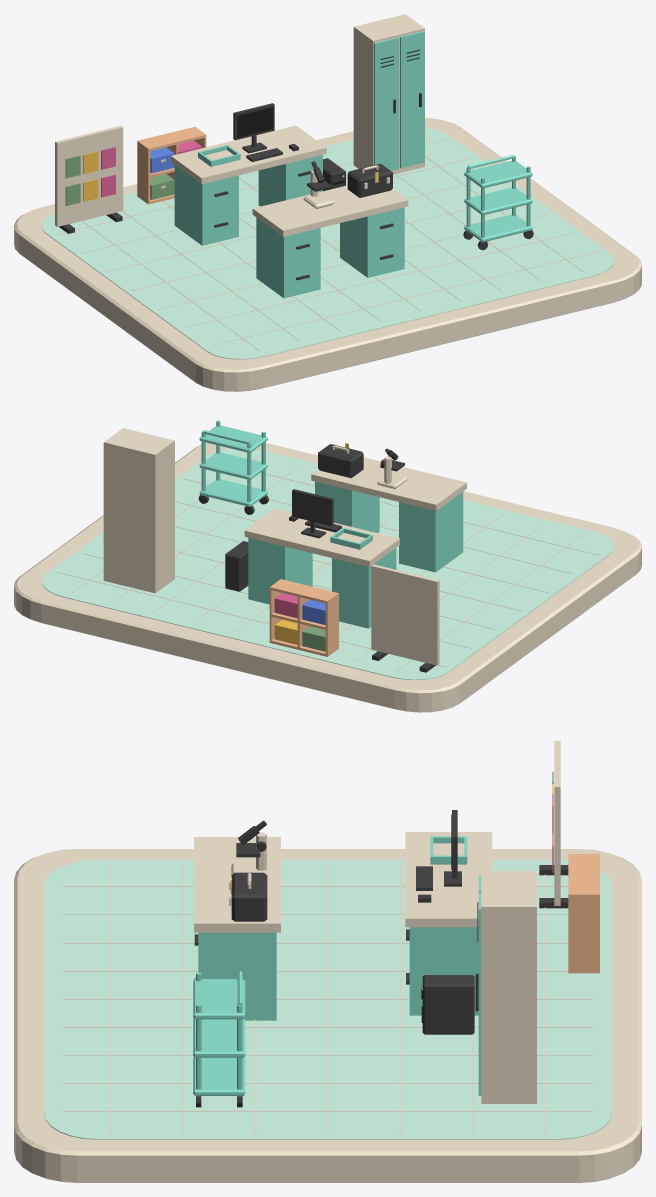
Rendered from room.fbx.
The picture shows the model from 3 angles, top to bottom: view 1: azimuth 30°, elevation 25°; view 2: azimuth 150°, elevation 25°; view 3: azimuth 270°, elevation 25°; orthographic projection. The views are drawn at different scales.
Visible parts, largest first — view 1: COM-02 Floor Surface, COM-01 Rounded Base Direct, Panel, Case.001, Worktop, Storage module.002, Storage module, Worktop.001, Storage module.001, Door.001, Door, Storage module.003 (+10 smaller); view 2: COM-02 Floor Surface, COM-01 Rounded Base Direct, Case.001, Panel, Storage module, Worktop.001, Worktop, Storage module.003, Storage module.002, Storage module.001, Frame, Case (+10 smaller); view 3: COM-02 Floor Surface, COM-01 Rounded Base Direct, Case.001, Worktop.001, Worktop, Storage module.001, Storage module.003, Tower, Cubbies divider.002, Tray.002, Case, Tray.001 (+11 smaller).
Boxes of the visible parts, x1,y1,x2,y2 form: COM-02 Floor Surface: (41,128,614,359); COM-01 Rounded Base Direct: (14,118,641,391); Panel: (55,125,123,226); Case.001: (353,14,424,174); Worktop: (252,185,408,236); Storage module.002: (174,165,238,245); Storage module: (256,217,320,298); Worktop.001: (171,125,326,184); Storage module.001: (340,207,404,277); Door.001: (400,31,424,168); Door: (374,37,398,170); Storage module.003: (258,155,322,206); COM-02 Floor Surface: (41,448,614,680); COM-01 Rounded Base Direct: (14,442,641,712); Case.001: (103,428,174,593); Panel: (371,564,439,665); Storage module: (399,492,463,572); Worktop.001: (244,508,399,566); Worktop: (311,457,466,510); Storage module.003: (248,537,312,604); Storage module.002: (332,548,396,628); Storage module.001: (315,481,379,532); Frame: (292,489,333,538); Case: (318,444,363,478); COM-02 Floor Surface: (44,859,611,1139); COM-01 Rounded Base Direct: (14,849,641,1182); Case.001: (481,871,536,1103); Worktop.001: (405,832,492,927); Worktop: (194,837,280,932); Storage module.001: (198,932,276,1020); Storage module.003: (409,927,478,1015); Tower: (422,975,474,1034); Cubbies divider.002: (568,894,599,973); Tray.002: (193,979,245,1019); Case: (231,872,267,921); Tray.001: (193,1018,245,1057).
Bounding box in the file's own units: 600 × 210 × 520.
